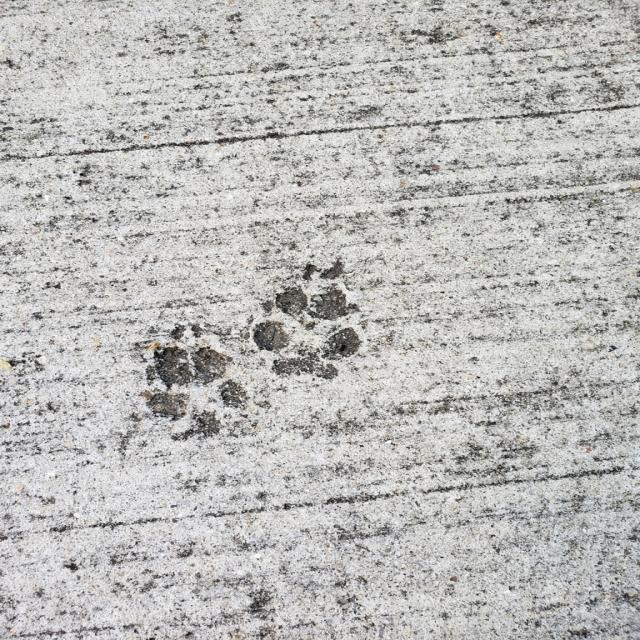canid: (258, 261, 365, 385), (142, 319, 246, 445)
